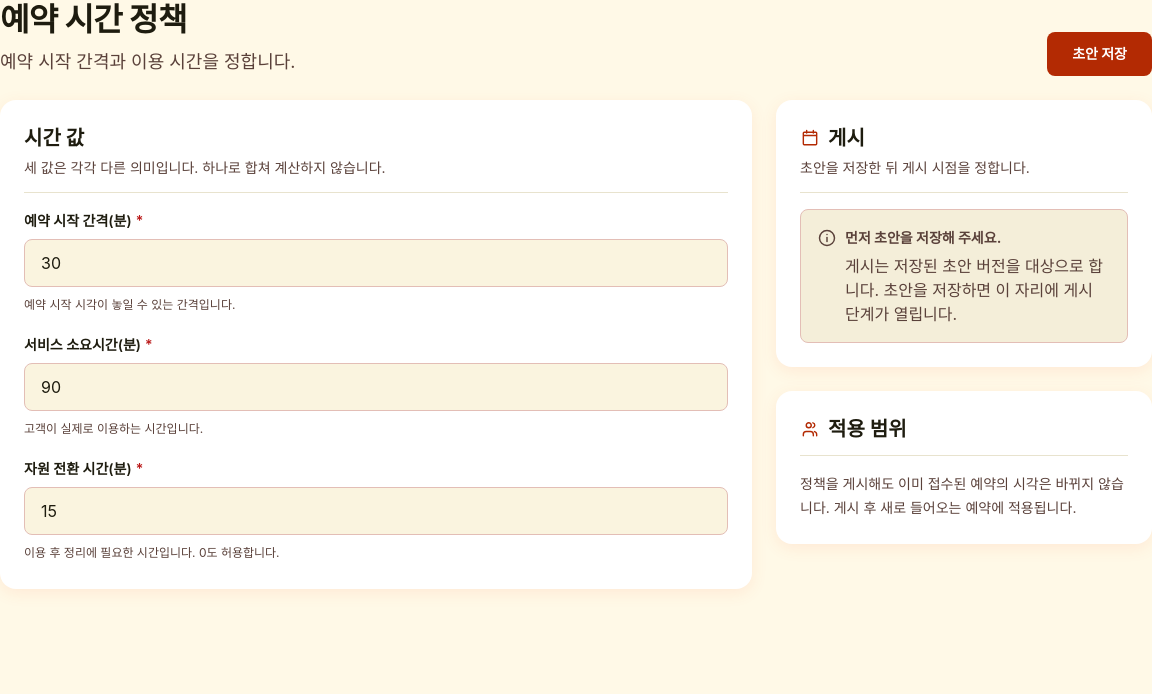
Scenario: 예약 시간 정책 화면 › 예약 게시 후에만 게시 철회를 노출한다
Expected: the field labelled "예약 시작 간격(분)" is shown, left=24, top=239, right=728, bottom=287
Click the button "초안 저장".
click(1100, 54)  # box left=1047, top=32, right=1151, bottom=76
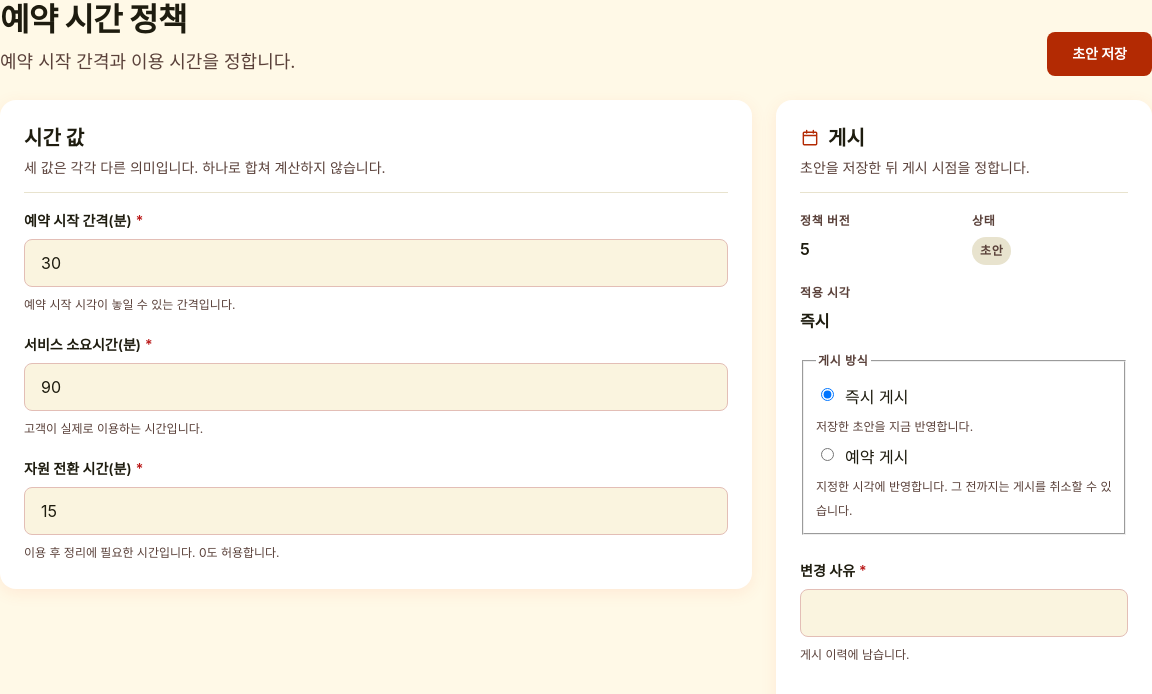
Expected: the button "예약 게시 취소" is not shown
Click the radio button labelled "예약 게시".
click(828, 454)  # box left=821, top=448, right=834, bottom=461
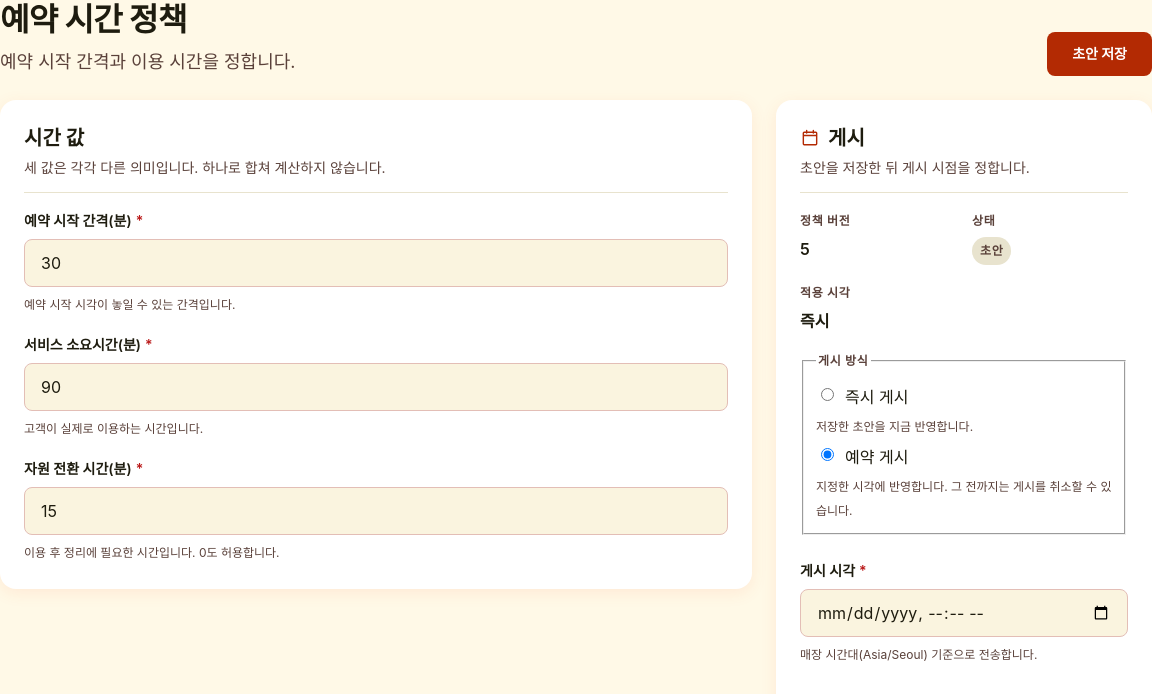
Type "2099-01-01T09:00" into the field labelled "게시 시각".
click(964, 613); type("2099-01-01T09:00")  # box left=800, top=589, right=1128, bottom=637
(page scrolled)
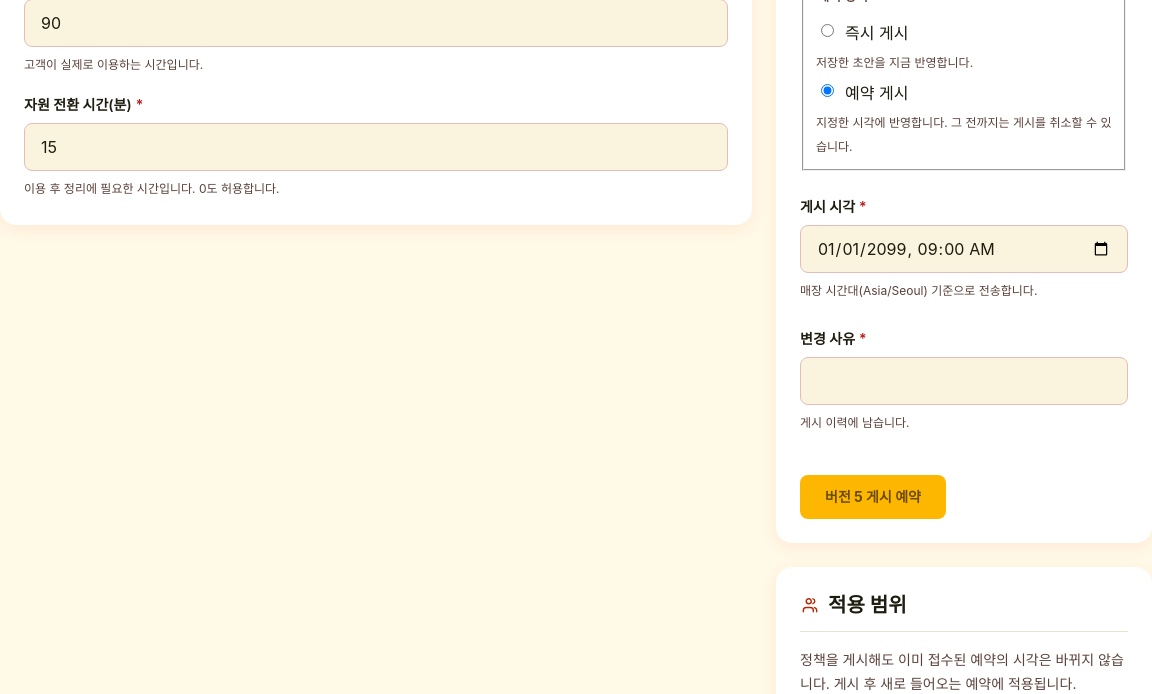
Type "연말 정책" into the field labelled "변경 사유".
click(964, 381); type("연말 정책")  # box left=800, top=357, right=1128, bottom=405
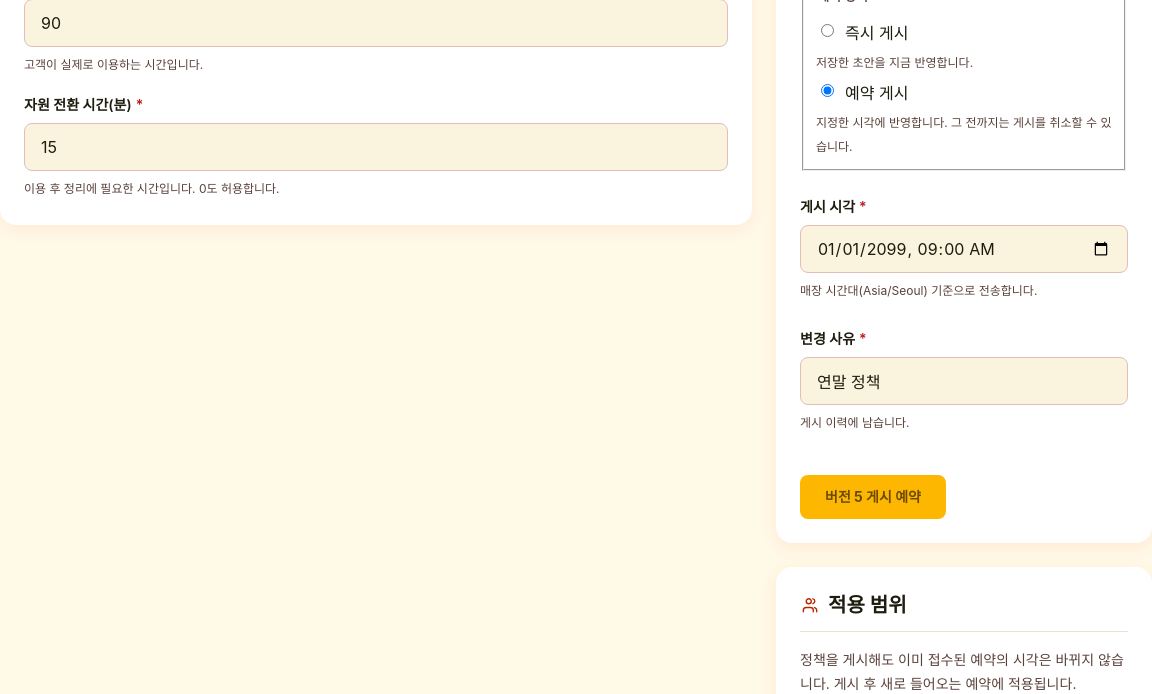
Click the button "버전 5 게시 예약".
click(873, 497)  # box left=800, top=475, right=946, bottom=519
(page scrolled)
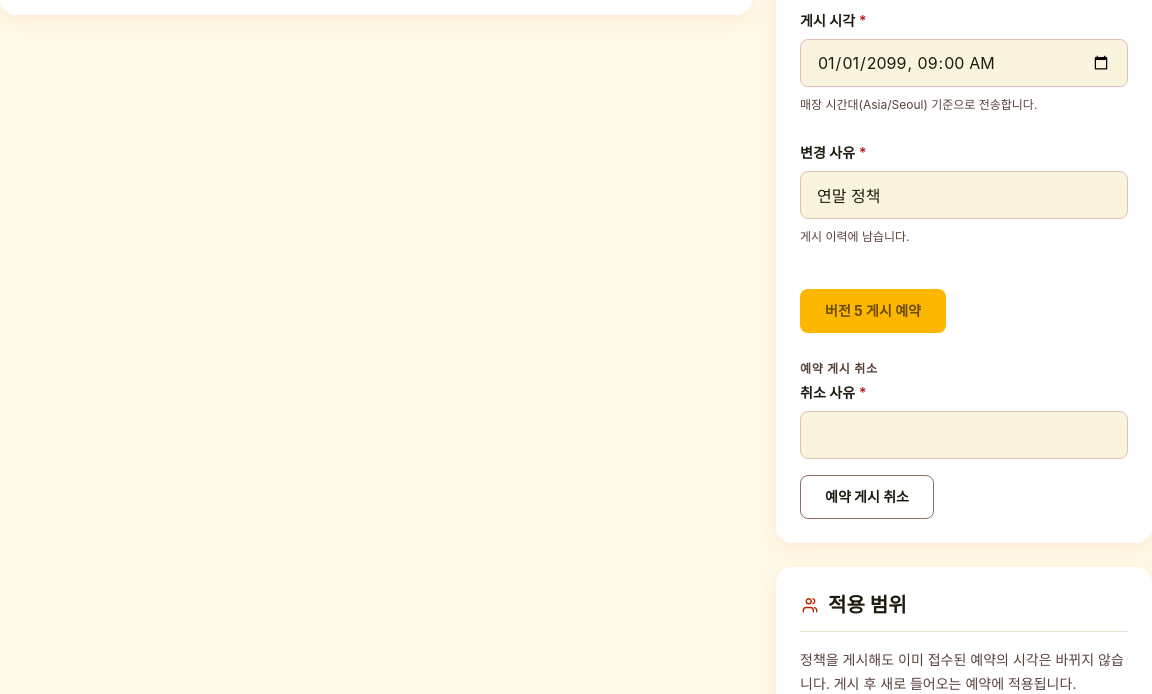
Now the button "예약 게시 취소" is shown, box left=800, top=475, right=934, bottom=519
